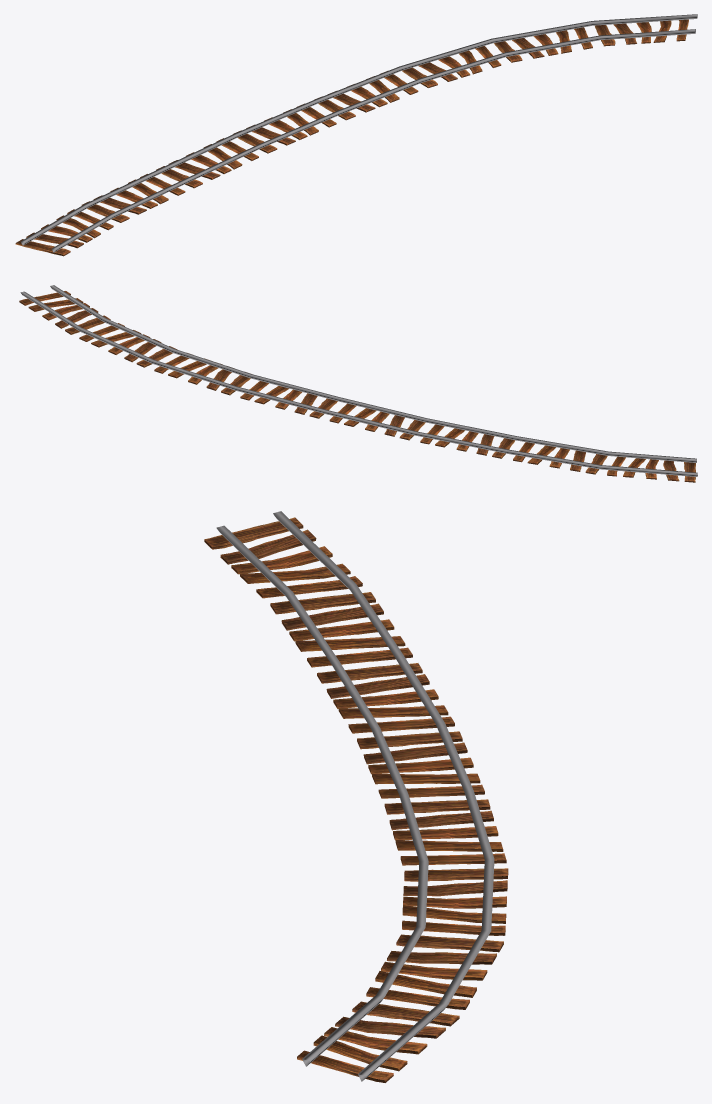
The model's file is SWORDLIGHT20_MAIN1RAILS1SE.fbx.
3 renders of one model, top to bottom at view 1: azimuth 30°, elevation 25°; view 2: azimuth 150°, elevation 25°; view 3: azimuth 270°, elevation 25°, orthographic. The views are drawn at different scales.
Visible parts, largest first — view 1: SWORDLIGHT20_MAIN1RAILS1SE; view 2: SWORDLIGHT20_MAIN1RAILS1SE; view 3: SWORDLIGHT20_MAIN1RAILS1SE.
Boxes of the visible parts, left/top/right/bottom form: SWORDLIGHT20_MAIN1RAILS1SE: left=15, top=14, right=697, bottom=256; SWORDLIGHT20_MAIN1RAILS1SE: left=19, top=285, right=697, bottom=482; SWORDLIGHT20_MAIN1RAILS1SE: left=204, top=511, right=508, bottom=1082.
Size of the model in its own units: 238842 by 14767 by 47566.
Materials: 2 (2 with a texture image).
